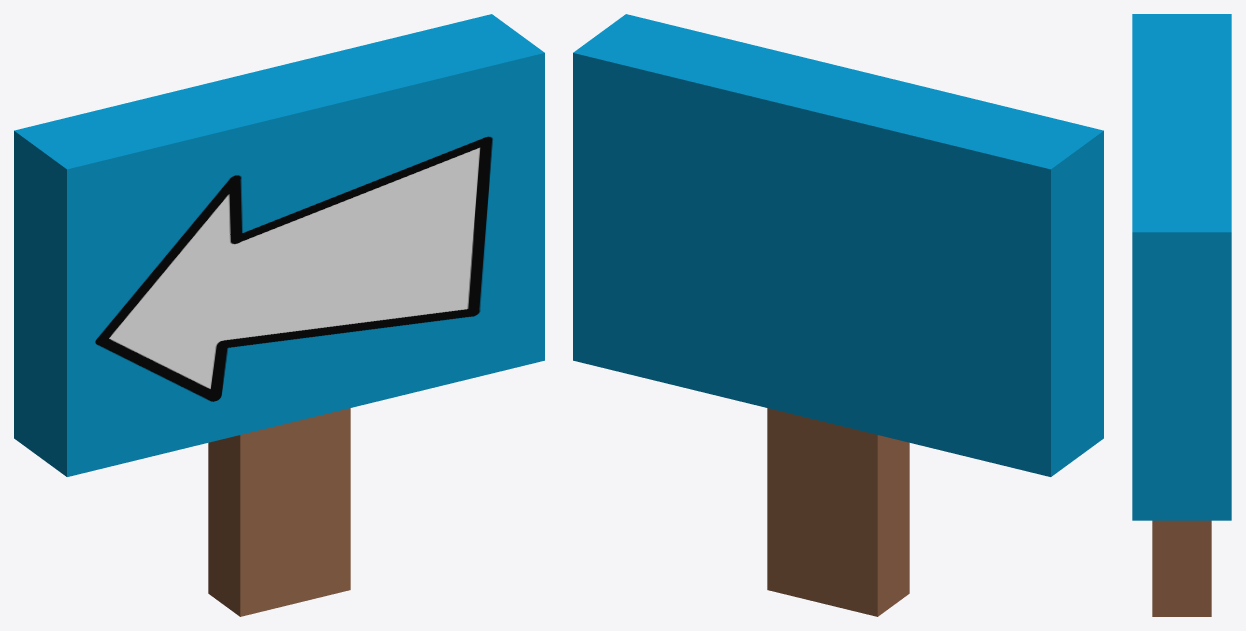
Rendered from sign.obj.
3 views of the same model, side by side, from view 1: azimuth 30°, elevation 25°; view 2: azimuth 150°, elevation 25°; view 3: azimuth 270°, elevation 25° (orthographic). The views are drawn at different scales.
Visible parts, largest first — view 1: signU, signD; view 2: signU, signD; view 3: signU, signD.
Part boxes in pixels (bbox=[...]): signU: bbox=[14, 14, 544, 476]; signD: bbox=[208, 408, 350, 616]; signU: bbox=[573, 14, 1103, 476]; signD: bbox=[767, 408, 909, 616]; signU: bbox=[1132, 14, 1231, 520]; signD: bbox=[1152, 520, 1211, 616].
Bounding box in the file's own units: 0.65 × 0.65 × 0.125.
